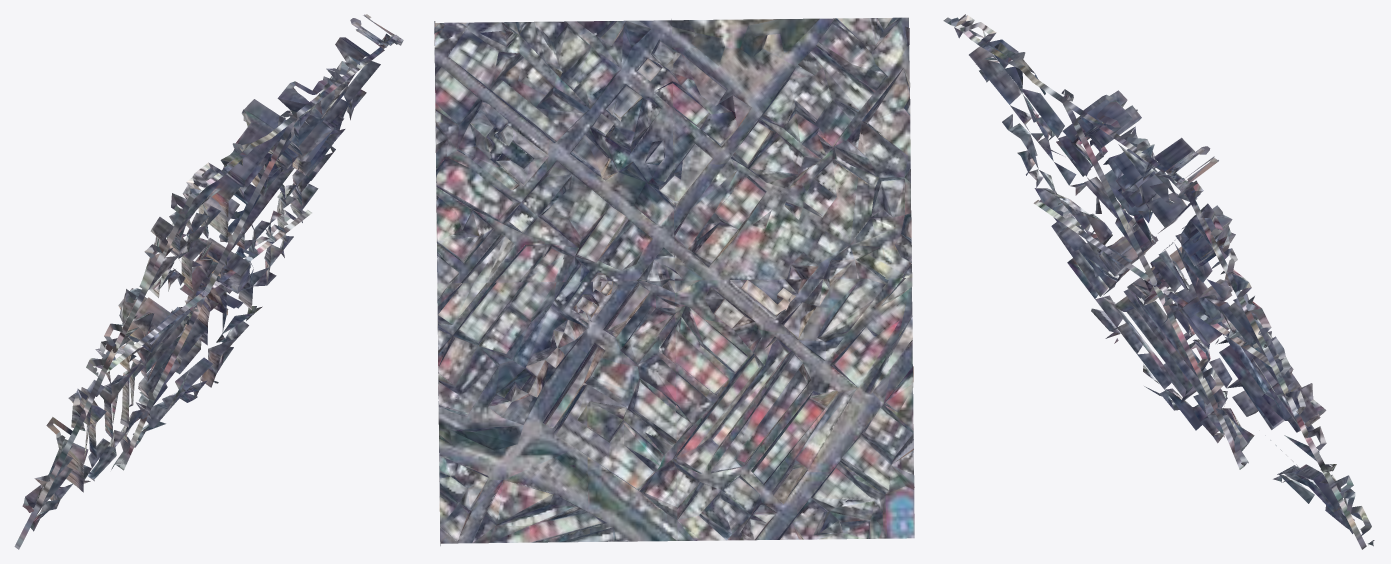
The picture shows the model from 3 angles, left to right: view 1: azimuth 30°, elevation 25°; view 2: azimuth 150°, elevation 25°; view 3: azimuth 270°, elevation 25°; orthographic projection. The views are drawn at different scales.
Bounding box in the file's own units: 613 × 580 × 527.
Materials: 1 (1 with a texture image).
